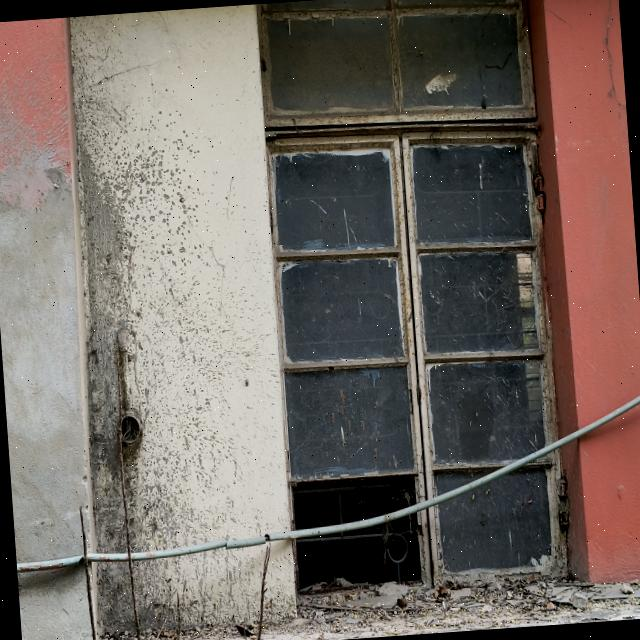Broken window pane: (264, 120, 572, 596)
Crack: (600, 0, 626, 133)
Incomplete Plaster Work: (0, 117, 97, 640)
